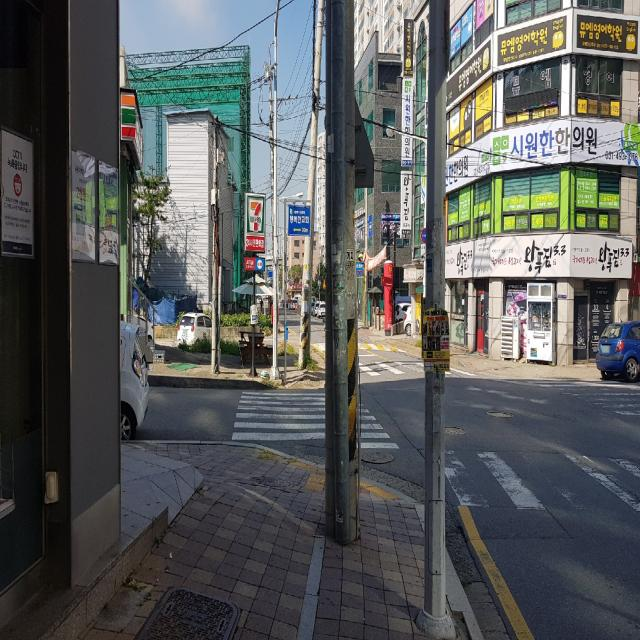횡단보도: (444, 451, 640, 512), (230, 389, 401, 451)
